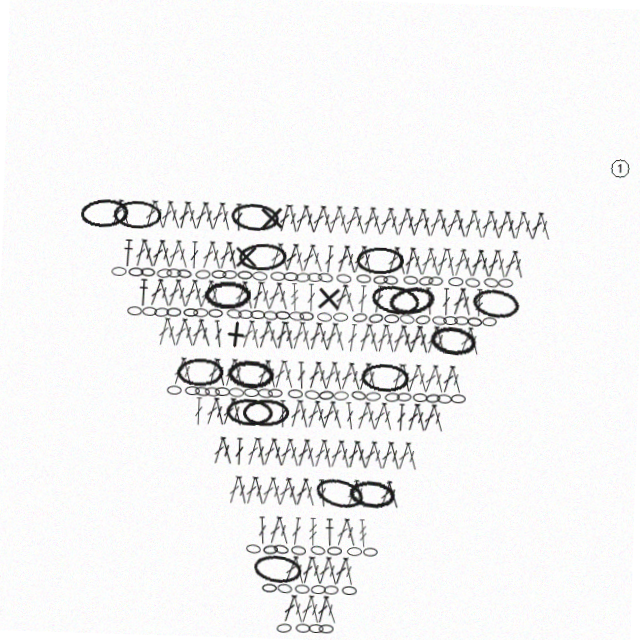chain: (318, 474, 372, 512), (386, 280, 437, 316), (369, 280, 421, 315), (470, 281, 521, 315), (260, 554, 311, 587), (429, 320, 479, 353), (353, 477, 402, 509), (76, 204, 126, 235), (227, 204, 277, 235), (236, 244, 285, 274), (362, 361, 412, 390), (228, 361, 276, 391), (228, 400, 276, 429), (245, 400, 293, 429), (110, 206, 159, 234), (178, 361, 225, 390), (203, 283, 250, 312), (354, 245, 402, 273), (285, 584, 301, 595), (280, 545, 296, 556), (317, 545, 333, 556), (353, 389, 369, 400), (226, 311, 242, 322), (352, 311, 368, 322), (368, 311, 384, 322), (399, 311, 415, 322), (415, 311, 431, 322), (316, 272, 332, 283), (417, 272, 433, 283), (482, 272, 498, 283), (155, 273, 171, 283), (175, 273, 191, 283), (286, 624, 301, 634), (253, 546, 268, 556), (270, 546, 285, 556), (298, 546, 313, 556), (197, 390, 212, 400), (207, 390, 222, 400), (231, 390, 246, 400), (260, 390, 275, 400), (307, 390, 322, 400), (321, 390, 336, 400), (336, 390, 351, 400), (368, 390, 383, 400), (387, 390, 402, 400), (428, 390, 443, 400), (439, 390, 454, 400), (154, 312, 169, 322), (263, 312, 278, 322), (289, 312, 304, 322), (317, 312, 332, 322), (432, 312, 447, 322), (467, 312, 482, 322), (194, 273, 209, 283), (251, 273, 266, 283), (294, 273, 309, 283), (335, 273, 350, 283), (372, 273, 387, 283), (382, 273, 397, 283), (464, 273, 479, 283), (305, 624, 320, 633), (318, 624, 333, 633), (328, 624, 343, 633), (270, 585, 285, 594), (303, 585, 318, 594), (319, 585, 334, 594), (332, 585, 347, 594), (350, 585, 365, 594), (334, 546, 349, 555), (354, 546, 369, 555), (370, 546, 385, 555), (169, 390, 184, 399), (187, 390, 202, 399), (217, 390, 232, 399), (246, 390, 261, 399), (270, 390, 285, 399), (290, 390, 305, 399), (399, 390, 414, 399), (415, 390, 430, 399), (453, 390, 468, 399), (127, 312, 142, 321), (142, 312, 157, 321), (166, 312, 181, 321), (183, 312, 198, 321), (193, 312, 208, 321), (208, 312, 223, 321), (238, 312, 253, 321), (250, 312, 265, 321), (275, 312, 290, 321), (299, 312, 314, 321), (333, 312, 348, 321), (384, 312, 399, 321), (443, 312, 458, 321), (454, 312, 469, 321), (482, 312, 497, 321), (110, 273, 125, 282), (127, 273, 142, 282), (139, 273, 154, 282), (165, 273, 180, 282), (210, 273, 225, 282), (221, 273, 236, 282), (236, 273, 251, 282), (269, 273, 284, 282), (282, 273, 297, 282), (306, 273, 321, 282), (355, 273, 370, 282), (402, 273, 417, 282), (427, 273, 442, 282), (447, 273, 462, 282), (497, 273, 512, 282)
double: (264, 322, 282, 351), (306, 244, 324, 273), (374, 205, 392, 234), (516, 205, 534, 234), (290, 595, 307, 624), (331, 595, 348, 624), (290, 556, 307, 585), (340, 556, 357, 585), (265, 478, 282, 507), (289, 478, 306, 507), (357, 478, 374, 507), (390, 478, 407, 507), (265, 439, 282, 468), (332, 439, 349, 468), (357, 439, 374, 468), (223, 400, 240, 429), (323, 400, 340, 429), (331, 400, 348, 429), (374, 400, 391, 429), (424, 400, 441, 429), (340, 361, 357, 390), (407, 361, 424, 390), (424, 361, 441, 390), (197, 322, 214, 351), (391, 322, 408, 351), (458, 322, 475, 351), (147, 283, 164, 312), (155, 283, 172, 312), (181, 283, 198, 312), (197, 283, 214, 312), (265, 283, 282, 312), (332, 283, 349, 312), (340, 283, 357, 312), (138, 244, 155, 273), (164, 244, 181, 273), (172, 244, 189, 273), (281, 244, 298, 273), (298, 244, 315, 273), (349, 244, 366, 273), (407, 244, 424, 273), (424, 244, 441, 273), (457, 244, 474, 273), (500, 244, 517, 273), (113, 205, 130, 234), (163, 205, 180, 234), (206, 205, 223, 234), (290, 205, 307, 234), (307, 205, 324, 234), (340, 205, 357, 234), (348, 205, 365, 234), (365, 205, 382, 234), (407, 205, 424, 234), (424, 205, 441, 234), (432, 205, 449, 234), (441, 205, 458, 234), (449, 205, 466, 234), (299, 595, 315, 624), (308, 595, 324, 624), (299, 556, 315, 585), (316, 556, 332, 585), (324, 556, 340, 585), (332, 556, 348, 585), (282, 517, 298, 546), (341, 517, 357, 546), (349, 517, 365, 546), (274, 478, 290, 507), (282, 478, 298, 507), (299, 478, 315, 507), (307, 478, 323, 507), (350, 478, 366, 507), (383, 478, 399, 507), (215, 439, 231, 468), (223, 439, 239, 468), (249, 439, 265, 468), (274, 439, 290, 468), (282, 439, 298, 468), (290, 439, 306, 468), (299, 439, 315, 468), (316, 439, 332, 468), (341, 439, 357, 468), (366, 439, 382, 468), (374, 439, 390, 468), (383, 439, 399, 468), (391, 439, 407, 468), (400, 439, 416, 468), (408, 439, 424, 468), (207, 400, 223, 429), (232, 400, 248, 429), (308, 400, 324, 429), (316, 400, 332, 429), (358, 400, 374, 429), (366, 400, 382, 429), (408, 400, 424, 429), (433, 400, 449, 429), (173, 361, 189, 390), (181, 361, 197, 390), (224, 361, 240, 390), (232, 361, 248, 390), (257, 361, 273, 390), (265, 361, 281, 390), (282, 361, 298, 390), (308, 361, 324, 390), (316, 361, 332, 390), (324, 361, 340, 390), (349, 361, 365, 390), (358, 361, 374, 390), (416, 361, 432, 390), (442, 361, 458, 390), (450, 361, 466, 390), (164, 322, 180, 351), (173, 322, 189, 351), (181, 322, 197, 351), (190, 322, 206, 351), (240, 322, 256, 351), (257, 322, 273, 351), (316, 322, 332, 351), (332, 322, 348, 351), (366, 322, 382, 351), (400, 322, 416, 351), (408, 322, 424, 351), (416, 322, 432, 351), (425, 322, 441, 351), (433, 322, 449, 351), (165, 283, 181, 312), (173, 283, 189, 312), (206, 283, 222, 312), (232, 283, 248, 312), (257, 283, 273, 312), (274, 283, 290, 312), (450, 283, 466, 312), (148, 244, 164, 273), (156, 244, 172, 273), (198, 244, 214, 273), (206, 244, 222, 273), (215, 244, 231, 273), (266, 244, 282, 273), (274, 244, 290, 273), (333, 244, 349, 273), (341, 244, 357, 273), (383, 244, 399, 273), (391, 244, 407, 273), (417, 244, 433, 273), (450, 244, 466, 273), (467, 244, 483, 273), (475, 244, 491, 273), (106, 205, 122, 234), (148, 205, 164, 234), (181, 205, 197, 234), (190, 205, 206, 234), (198, 205, 214, 234), (299, 205, 315, 234), (316, 205, 332, 234), (324, 205, 340, 234), (332, 205, 348, 234), (358, 205, 374, 234), (383, 205, 399, 234), (392, 205, 408, 234), (400, 205, 416, 234), (459, 205, 475, 234), (467, 205, 483, 234), (476, 205, 492, 234), (484, 205, 500, 234), (492, 205, 508, 234), (500, 205, 516, 234), (526, 205, 542, 234), (534, 205, 550, 234), (316, 595, 331, 624), (324, 595, 339, 624), (308, 556, 323, 585), (349, 556, 364, 585), (274, 517, 289, 546), (232, 478, 247, 507), (240, 478, 255, 507), (249, 478, 264, 507), (257, 478, 272, 507), (307, 439, 322, 468), (324, 439, 339, 468), (350, 439, 365, 468), (215, 400, 230, 429), (291, 400, 306, 429), (299, 400, 314, 429), (383, 400, 398, 429), (416, 400, 431, 429), (215, 361, 230, 390), (274, 361, 289, 390), (332, 361, 347, 390), (366, 361, 381, 390), (392, 361, 407, 390), (433, 361, 448, 390), (248, 322, 263, 351), (282, 322, 297, 351), (291, 322, 306, 351), (299, 322, 314, 351), (308, 322, 323, 351), (324, 322, 339, 351), (358, 322, 373, 351), (383, 322, 398, 351), (467, 322, 482, 351), (190, 283, 205, 312), (240, 283, 255, 312), (458, 283, 473, 312), (131, 244, 146, 273), (223, 244, 238, 273), (290, 244, 305, 273), (358, 244, 373, 273), (433, 244, 448, 273), (484, 244, 499, 273), (492, 244, 507, 273), (509, 244, 524, 273), (140, 205, 155, 234), (156, 205, 171, 234), (215, 205, 230, 234), (274, 205, 289, 234), (416, 205, 431, 234), (509, 205, 524, 234), (258, 439, 272, 468), (208, 361, 222, 390), (401, 361, 415, 390), (157, 322, 171, 351), (275, 322, 289, 351), (376, 322, 390, 351), (250, 283, 264, 312), (401, 244, 415, 273), (442, 244, 456, 273), (174, 205, 188, 234), (283, 205, 297, 234), (371, 283, 384, 312), (297, 518, 309, 546), (322, 479, 334, 507), (347, 401, 359, 429), (213, 323, 225, 351), (347, 323, 359, 351), (423, 284, 434, 312), (322, 245, 333, 273), (264, 518, 274, 546), (399, 401, 409, 429), (298, 362, 308, 390), (357, 284, 367, 312), (239, 440, 248, 468), (197, 401, 206, 429), (281, 401, 290, 429), (306, 284, 315, 312), (441, 284, 450, 312), (188, 245, 197, 273), (231, 206, 240, 234)
half_double: (330, 518, 342, 546), (120, 245, 132, 273), (137, 284, 148, 312)
noise: (604, 148, 627, 171)
single: (221, 322, 251, 352), (254, 205, 283, 234), (314, 284, 342, 312), (230, 245, 258, 273)
treble: (364, 518, 375, 546), (289, 284, 299, 312), (315, 518, 324, 546), (474, 284, 483, 312)
